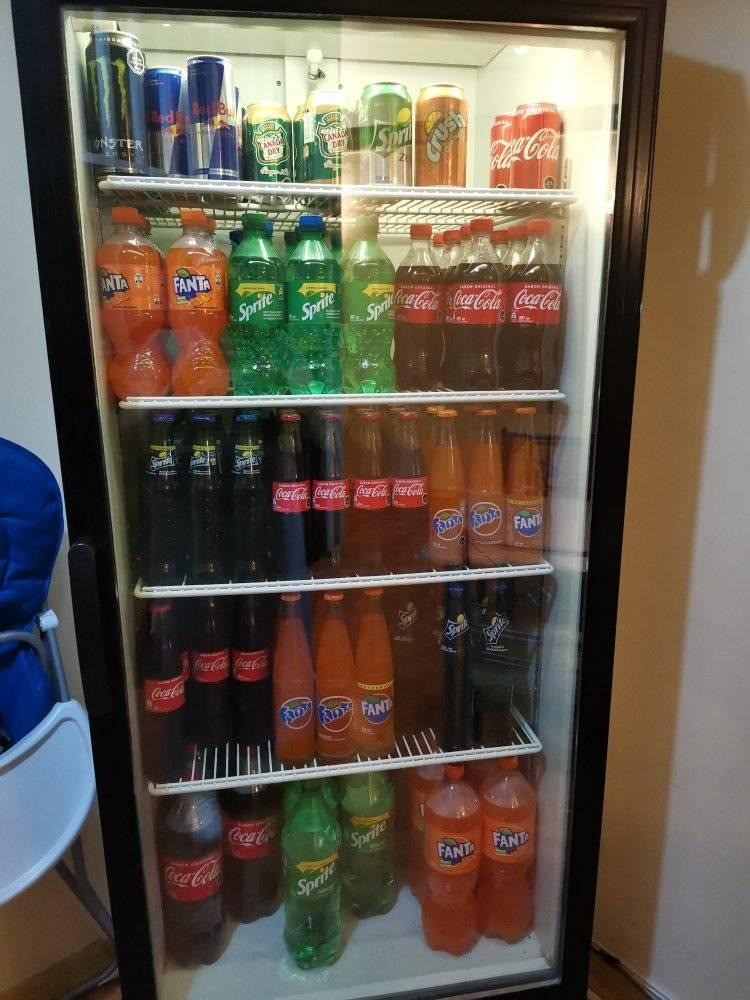canadadry: (253, 133, 291, 164), (317, 124, 352, 155)
cocacola: (513, 130, 559, 164), (514, 287, 562, 315), (165, 864, 221, 886), (454, 289, 503, 312), (394, 288, 440, 312), (229, 826, 279, 847), (491, 137, 510, 171), (151, 683, 185, 700), (193, 657, 230, 672), (393, 482, 425, 499), (357, 484, 389, 500), (234, 656, 270, 670), (275, 487, 308, 502), (313, 486, 348, 500)
crush: (424, 109, 466, 165)
fanta: (170, 275, 214, 296), (436, 841, 476, 864), (319, 702, 354, 727), (490, 830, 531, 851), (280, 701, 312, 726), (359, 699, 394, 721), (99, 273, 129, 295), (471, 510, 501, 529), (433, 515, 464, 533), (514, 514, 543, 531)
monster: (86, 57, 130, 133)
redbull: (191, 100, 236, 130), (151, 110, 188, 134)
sprite: (293, 863, 339, 896), (373, 124, 413, 152), (348, 821, 388, 848), (300, 292, 337, 320), (238, 293, 274, 321), (365, 293, 393, 321), (485, 617, 508, 643), (447, 621, 468, 638), (399, 609, 418, 627), (150, 456, 174, 470), (234, 457, 259, 469)
